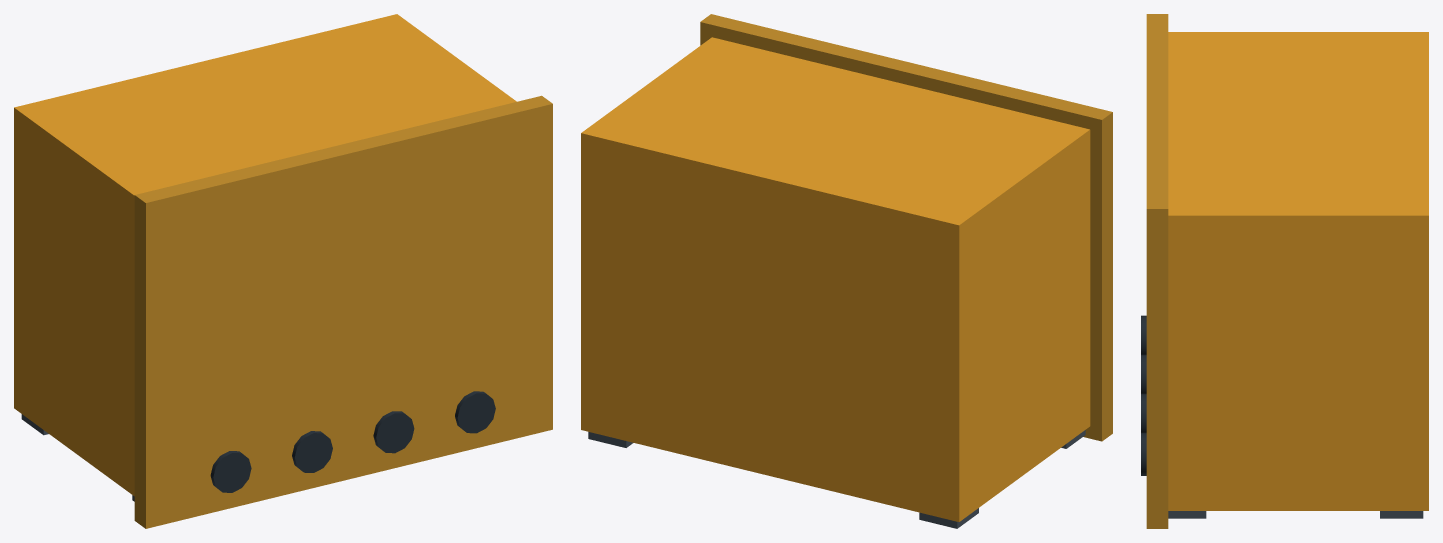
Rendered from junction-box.glb.
3 renders of one model, left to right at view 1: azimuth 30°, elevation 25°; view 2: azimuth 150°, elevation 25°; view 3: azimuth 270°, elevation 25°, orthographic.
Bounding box in the file's own units: 0.85 × 0.65 × 0.53.
